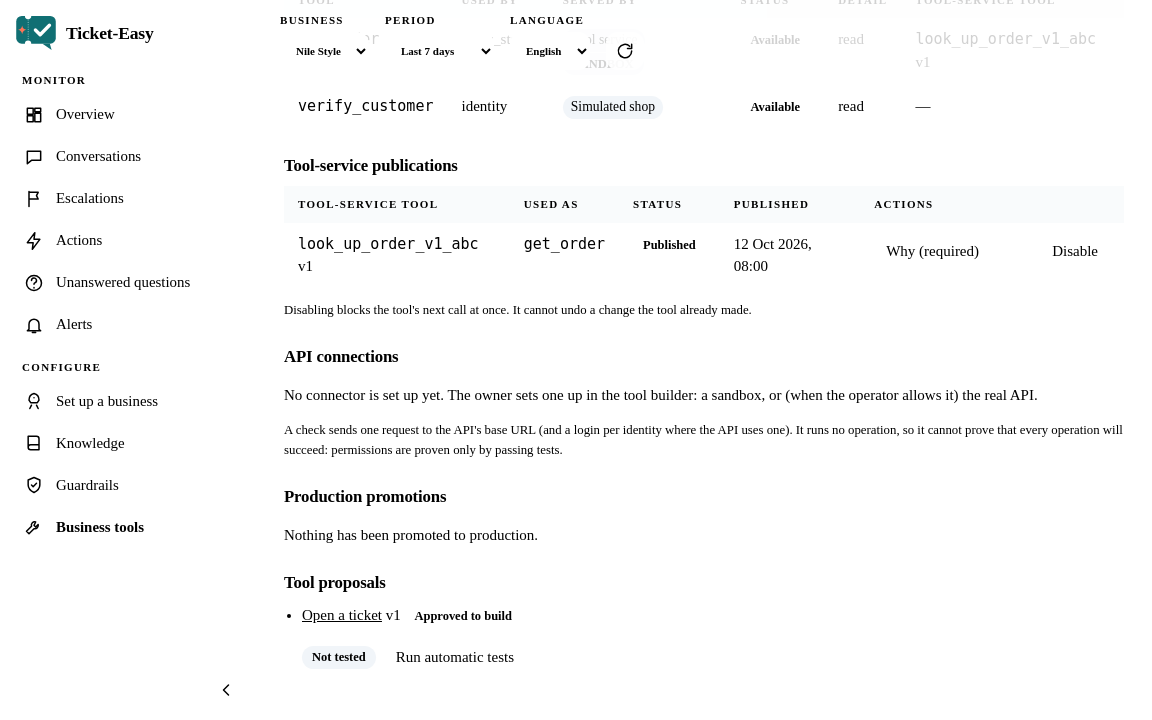
Test: business tools in Live Demo › shows a built tool's readiness and starts the automatic tests through the service
(page scrolled)
Expected: the text "Not tested" is shown, [302,646,376,669]
Click the button "Run automatic tests": {"x": 455, "y": 658} [384,639,526,676]
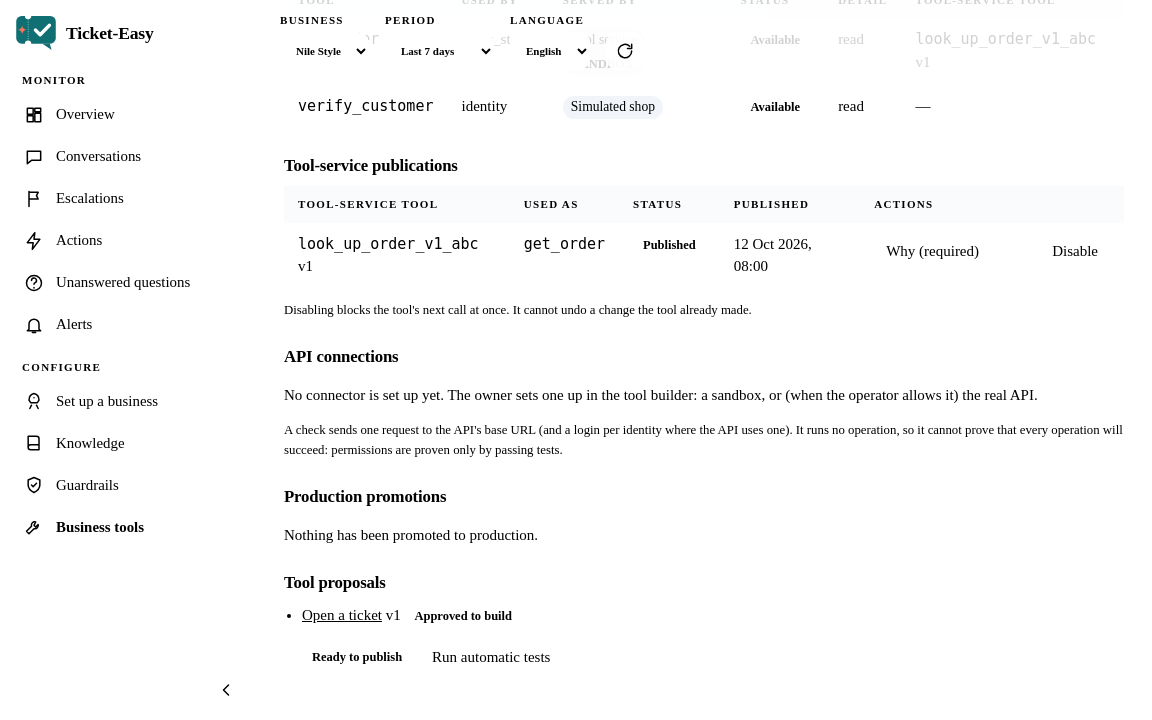
Now the text "Ready to publish" is shown, box [312,650,402,664]
